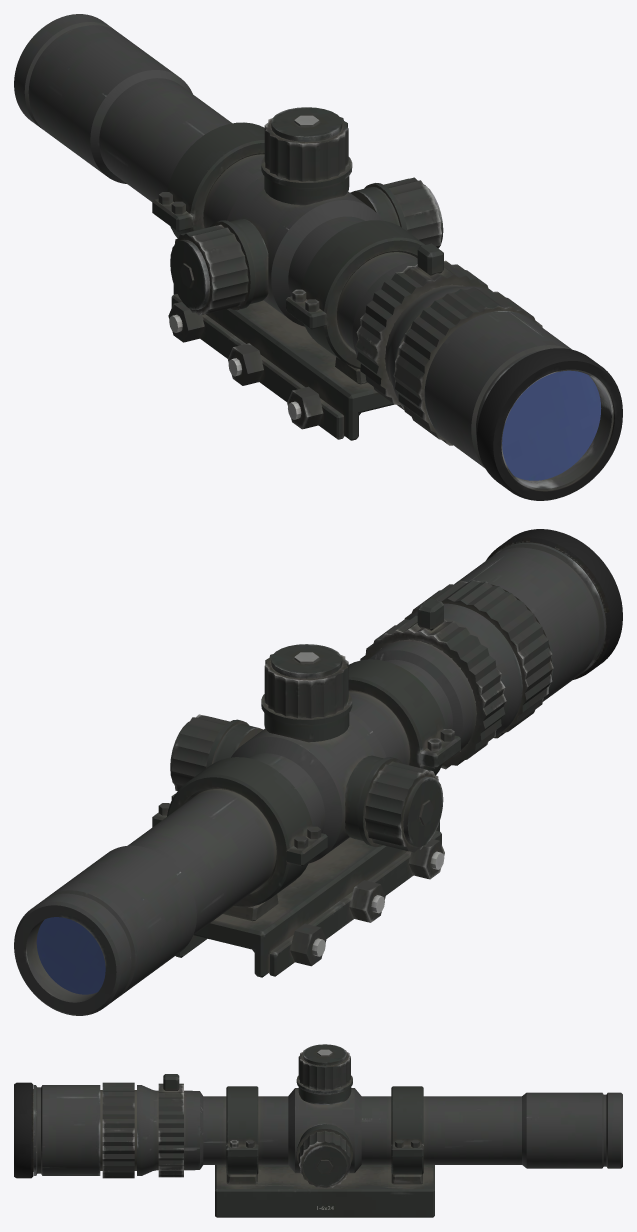
The model's file is luneta_1_6.glb.
3 views of the same model, one above another, from view 1: azimuth 30°, elevation 25°; view 2: azimuth 150°, elevation 25°; view 3: azimuth 270°, elevation 25° (orthographic). The views are drawn at different scales.
Parts seen in each view (by area): view 1: luneta_1_6_luneta, luneta_1_6_lente; view 2: luneta_1_6_luneta, luneta_1_6_lente; view 3: luneta_1_6_luneta.
Part boxes in pixels (x1,y1,x2,y2): luneta_1_6_luneta: (14, 14, 622, 500); luneta_1_6_lente: (502, 370, 601, 480); luneta_1_6_luneta: (14, 529, 622, 1015); luneta_1_6_lente: (36, 917, 105, 994); luneta_1_6_luneta: (14, 1044, 622, 1217).
Size of the model in its own units: 0.0752 by 0.0735 by 0.2656.
Materials: 1 (1 with a texture image).
